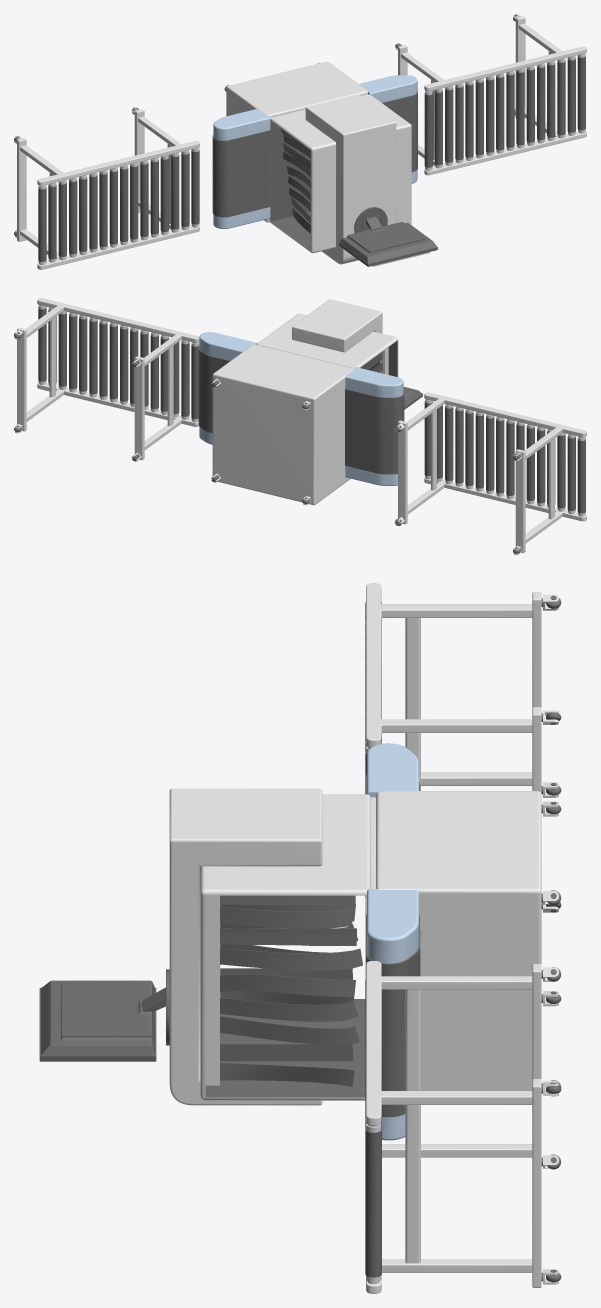
Rendered from Máy soi chiếu.glb.
The picture shows the model from 3 angles, top to bottom: view 1: azimuth 30°, elevation 25°; view 2: azimuth 150°, elevation 25°; view 3: azimuth 270°, elevation 25°; orthographic projection. The views are drawn at different scales.
Parts seen in each view (by area): view 1: Object001, Box003, Box004, Cylinder09, Object002, Tele4, Object004, Box008, Box013, Cylinder03, Line009, Box016 (+5 smaller); view 2: Box003, Object001, Cylinder09, Box004, Object002, Box008, Box013, Cylinder03, Box016, Box005, Box010, Box014 (+9 smaller); view 3: Box003, Box004, Line010, Tele4, Box008, Box013, Object002, Object004, Box005, Line009, Cylinder09, Object001 (+11 smaller).
Boxes of the visible parts, <box> form: Object001: <box>38,56,585,261</box>; Box003: <box>226,61,411,253</box>; Box004: <box>305,94,396,264</box>; Cylinder09: <box>212,91,417,217</box>; Object002: <box>213,75,417,228</box>; Tele4: <box>340,207,436,263</box>; Object004: <box>270,121,310,250</box>; Box008: <box>401,23,586,91</box>; Box013: <box>20,116,199,185</box>; Cylinder03: <box>38,53,585,265</box>; Line009: <box>281,129,310,233</box>; Box016: <box>20,201,199,269</box>; Box003: <box>212,313,398,505</box>; Object001: <box>38,307,585,513</box>; Cylinder09: <box>198,347,404,474</box>; Box004: <box>292,299,382,352</box>; Object002: <box>199,332,403,485</box>; Box008: <box>26,298,199,366</box>; Box013: <box>407,392,586,459</box>; Cylinder03: <box>38,305,585,516</box>; Box016: <box>407,477,586,543</box>; Box005: <box>26,383,198,450</box>; Box010: <box>134,356,144,460</box>; Box014: <box>515,449,525,553</box>; Box003: <box>200,791,541,1100</box>; Box004: <box>169,788,322,1105</box>; Line010: <box>220,895,362,1086</box>; Tele4: <box>41,969,169,1055</box>; Box008: <box>366,961,532,1125</box>; Box013: <box>366,583,532,747</box>; Object002: <box>367,743,418,1140</box>; Object004: <box>205,999,365,1097</box>; Box005: <box>366,1144,532,1293</box>; Line009: <box>220,904,358,1004</box>; Cylinder09: <box>365,774,420,1117</box>; Object001: <box>365,602,381,1277</box>.
Bounding box in the file's own units: 4081 × 948 × 1680.
